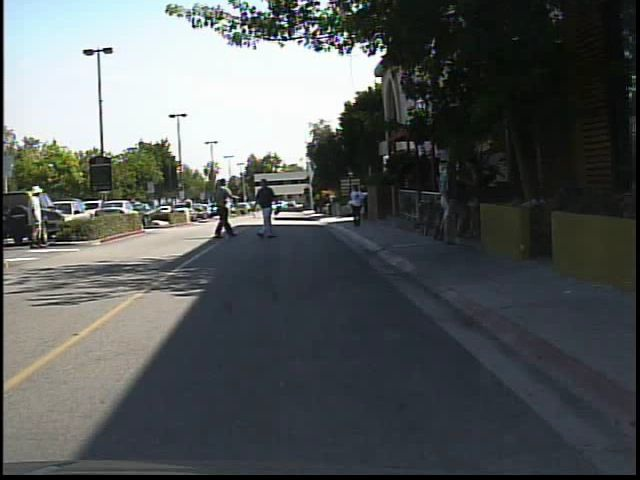person: (431, 151, 467, 250), (462, 160, 488, 248), (209, 173, 241, 244), (250, 178, 284, 241), (24, 182, 51, 251), (345, 181, 368, 234), (181, 193, 197, 223), (248, 195, 263, 219)
